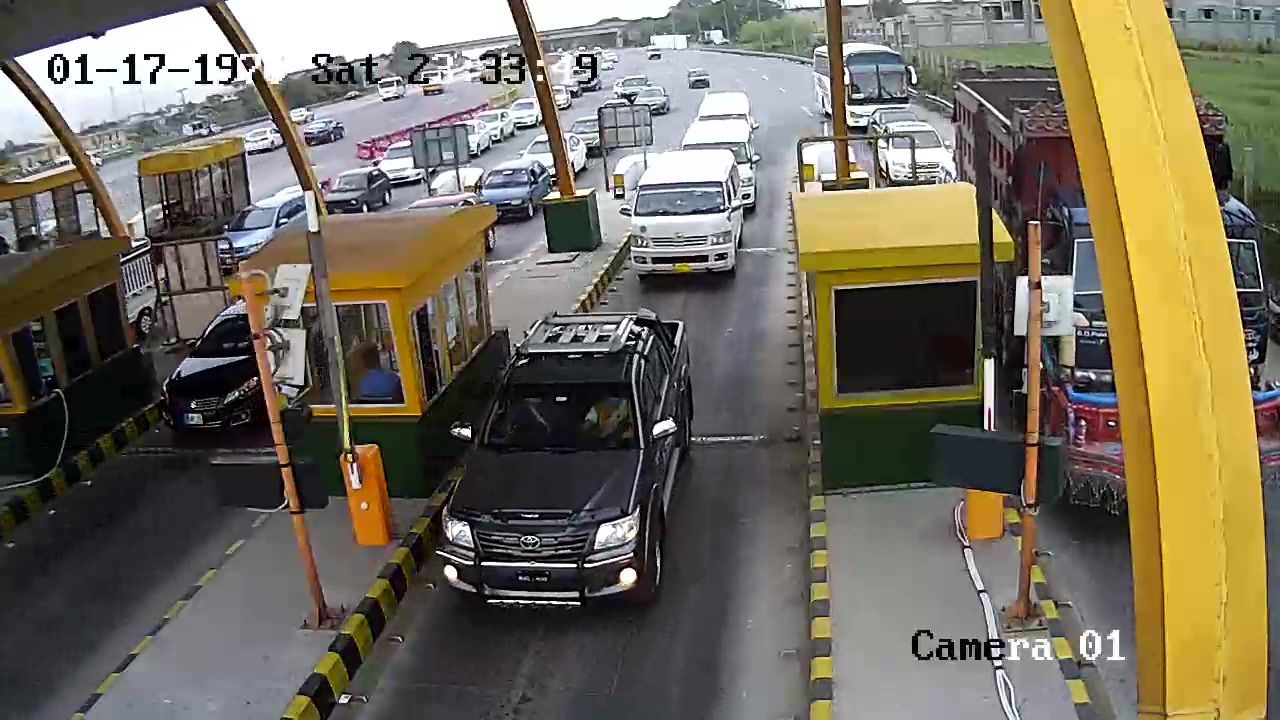F1: (443, 300, 712, 623)
F3: (633, 149, 742, 285)
